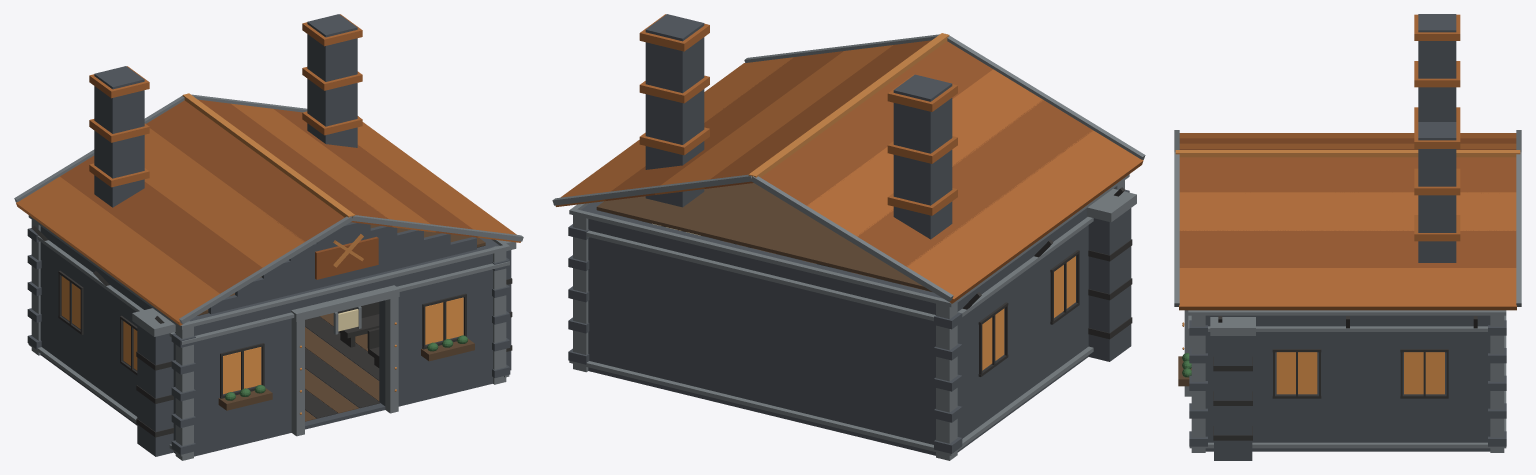
File: QuestHall.glb
3 renders of one model, left to right at view 1: azimuth 30°, elevation 25°; view 2: azimuth 150°, elevation 25°; view 3: azimuth 270°, elevation 25°, orthographic. The views are drawn at different scales.
Parts seen in each view (by area): view 1: QuestHall_040_FrontWing, QuestHall_003_FrontWing, QuestHall_165_ProfileRoof, QuestHall_002_Side, QuestHall_156_ProfileRoof, QuestHall_159_ProfileRoof, QuestHall_162_ProfileRoof, QuestHall_186_ExhaustStack, QuestHall_199_ExhaustStack, QuestHall_171_ProfileRoof, QuestHall_177_ProfileRoof, QuestHall_181_FoundryButtress (+37 smaller); view 2: QuestHall_001_Rear, QuestHall_002_Side, QuestHall_165_ProfileRoof, QuestHall_095_Ceiling, QuestHall_162_ProfileRoof, QuestHall_156_ProfileRoof, QuestHall_159_ProfileRoof, QuestHall_199_ExhaustStack, QuestHall_186_ExhaustStack, QuestHall_171_ProfileRoof, QuestHall_181_FoundryButtress, QuestHall_174_ProfileRoof (+20 smaller); view 3: QuestHall_039_Side, QuestHall_177_ProfileRoof, QuestHall_171_ProfileRoof, QuestHall_174_ProfileRoof, QuestHall_168_ProfileRoof, QuestHall_199_ExhaustStack, QuestHall_194_FoundryButtress, QuestHall_186_ExhaustStack, QuestHall_180_Ridge, QuestHall_088_SideCourse, QuestHall_080_SideCourse, QuestHall_162_ProfileRoof (+14 smaller).
Part boxes in pixels (bbox=[...]): QuestHall_040_FrontWing: bbox=[379, 243, 499, 405]; QuestHall_003_FrontWing: bbox=[190, 293, 300, 455]; QuestHall_165_ProfileRoof: bbox=[16, 176, 219, 325]; QuestHall_002_Side: bbox=[40, 227, 190, 452]; QuestHall_156_ProfileRoof: bbox=[146, 100, 344, 241]; QuestHall_159_ProfileRoof: bbox=[144, 128, 304, 267]; QuestHall_162_ProfileRoof: bbox=[60, 156, 262, 293]; QuestHall_186_ExhaustStack: bbox=[94, 66, 144, 207]; QuestHall_199_ExhaustStack: bbox=[307, 14, 357, 147]; QuestHall_171_ProfileRoof: bbox=[231, 103, 435, 232]; QuestHall_177_ProfileRoof: bbox=[357, 122, 520, 242]; QuestHall_181_FoundryButtress: bbox=[137, 325, 173, 456]; QuestHall_001_Rear: bbox=[581, 208, 942, 455]; QuestHall_002_Side: bbox=[957, 188, 1114, 450]; QuestHall_165_ProfileRoof: bbox=[906, 130, 1143, 303]; QuestHall_095_Ceiling: bbox=[596, 183, 931, 291]; QuestHall_162_ProfileRoof: bbox=[857, 100, 1093, 266]; QuestHall_156_ProfileRoof: bbox=[761, 41, 992, 205]; QuestHall_159_ProfileRoof: bbox=[807, 69, 1043, 236]; QuestHall_199_ExhaustStack: bbox=[645, 14, 704, 207]; QuestHall_186_ExhaustStack: bbox=[893, 74, 952, 239]; QuestHall_171_ProfileRoof: bbox=[654, 45, 892, 194]; QuestHall_181_FoundryButtress: bbox=[1088, 208, 1131, 361]; QuestHall_174_ProfileRoof: bbox=[605, 51, 843, 200]; QuestHall_039_Side: bbox=[1205, 315, 1490, 451]; QuestHall_177_ProfileRoof: bbox=[1179, 268, 1516, 310]; QuestHall_171_ProfileRoof: bbox=[1179, 192, 1516, 230]; QuestHall_174_ProfileRoof: bbox=[1179, 230, 1516, 267]; QuestHall_168_ProfileRoof: bbox=[1179, 157, 1516, 193]; QuestHall_199_ExhaustStack: bbox=[1418, 122, 1456, 262]; QuestHall_194_FoundryButtress: bbox=[1214, 336, 1252, 460]; QuestHall_186_ExhaustStack: bbox=[1418, 14, 1456, 121]; QuestHall_180_Ridge: bbox=[1175, 150, 1520, 157]; QuestHall_088_SideCourse: bbox=[1189, 310, 1506, 315]; QuestHall_080_SideCourse: bbox=[1189, 442, 1506, 448]; QuestHall_162_ProfileRoof: bbox=[1179, 138, 1516, 143].
Bounding box in the file's own units: 34 × 25.5 × 27.2.
